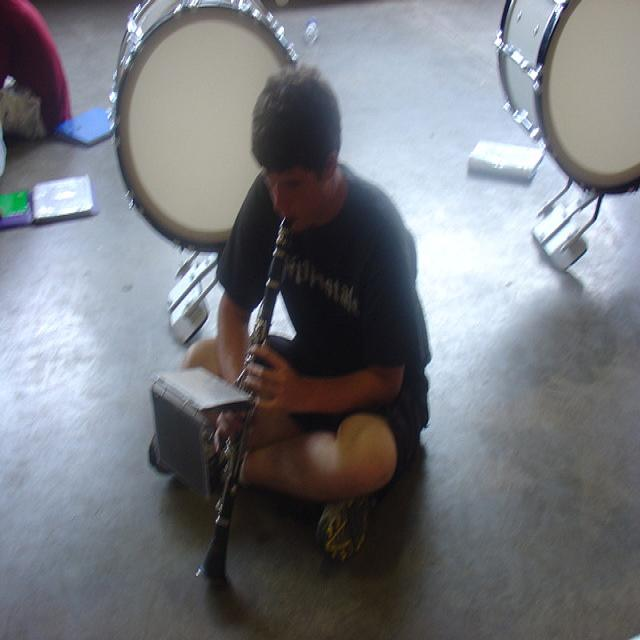clarinet: (193, 217, 293, 588)
